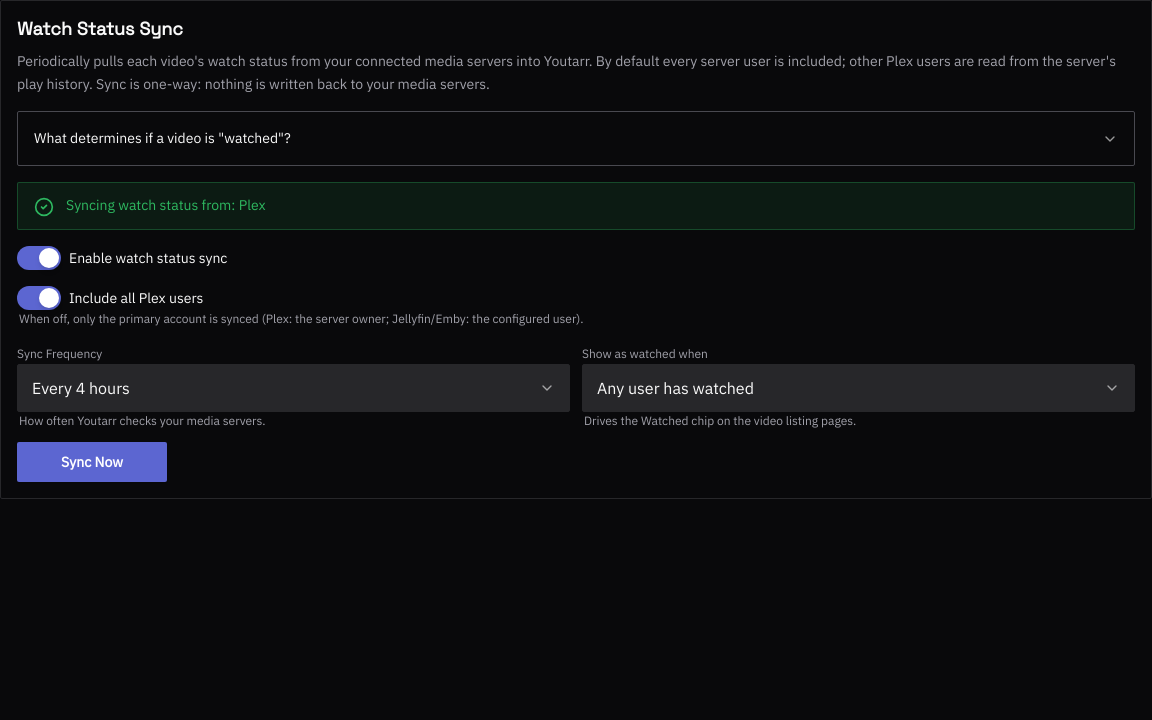
Test: WatchStatusSection › does not offer sub-hourly frequencies
Step 1. Click the button "Every 4 hours" → (81, 388), box [17,364,570,412]
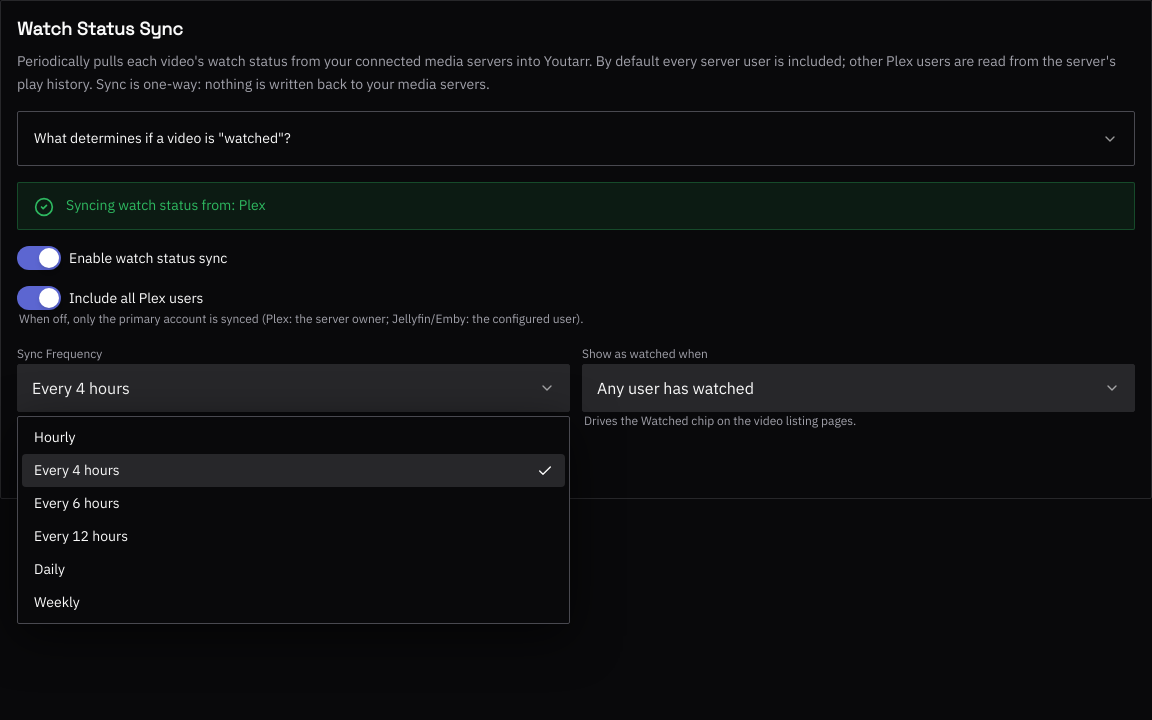
Expected: the option "Daily" is shown, [34,560,65,578]
